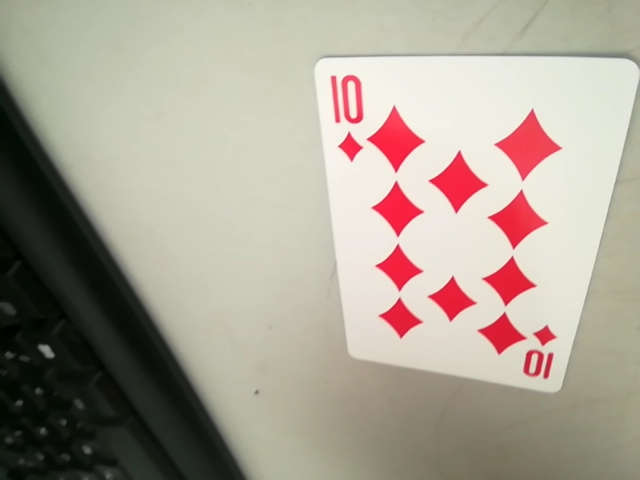fk 10: (321, 63, 375, 129), (511, 324, 563, 388)
